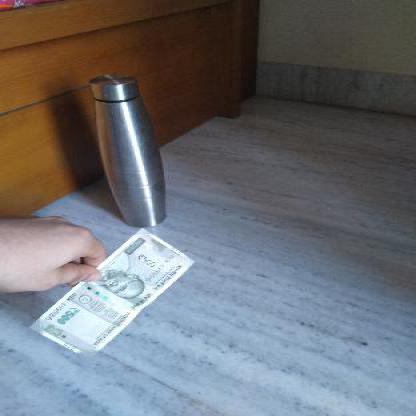New500Front: (33, 225, 191, 352)
